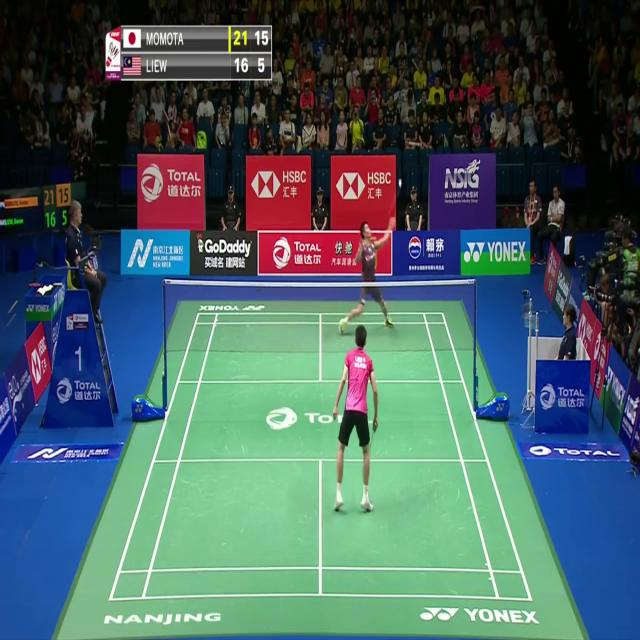Shuttlecock: (397, 177, 404, 189)
